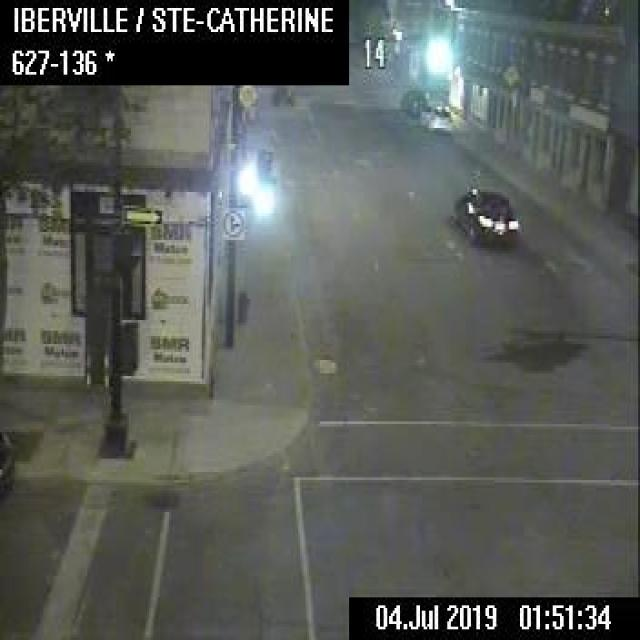vehicle: (453, 184, 520, 243), (418, 100, 452, 130), (0, 429, 15, 494), (398, 85, 428, 116)
